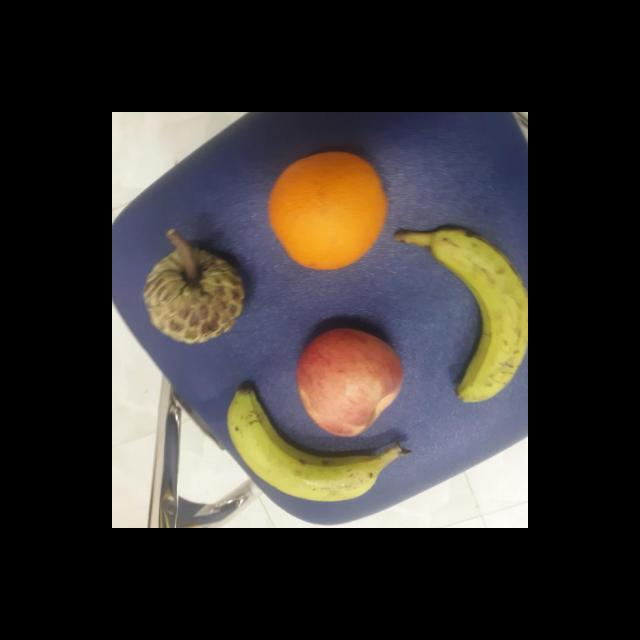Sakya fruit: (142, 228, 247, 344)
apple: (294, 316, 404, 439)
banana: (216, 390, 410, 507), (416, 218, 528, 410)
orange: (268, 150, 389, 274)
